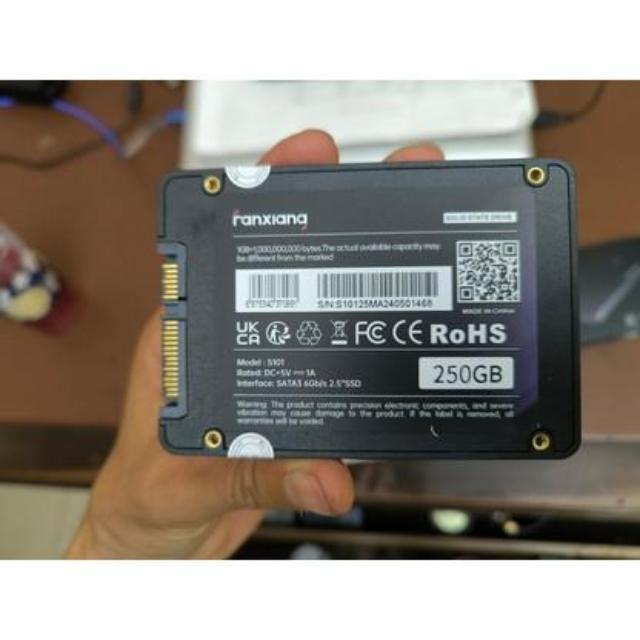DISK: (154, 159, 584, 461)
